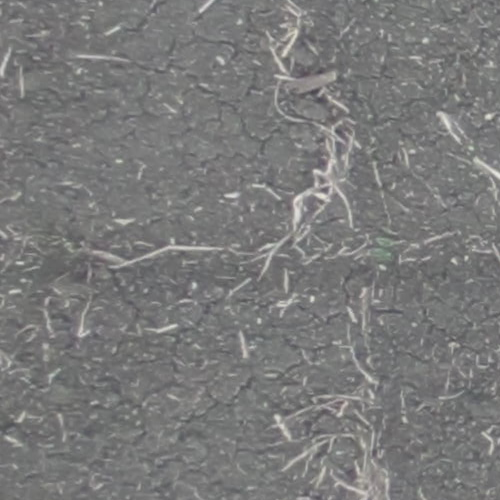plant: (370, 233, 394, 262)
